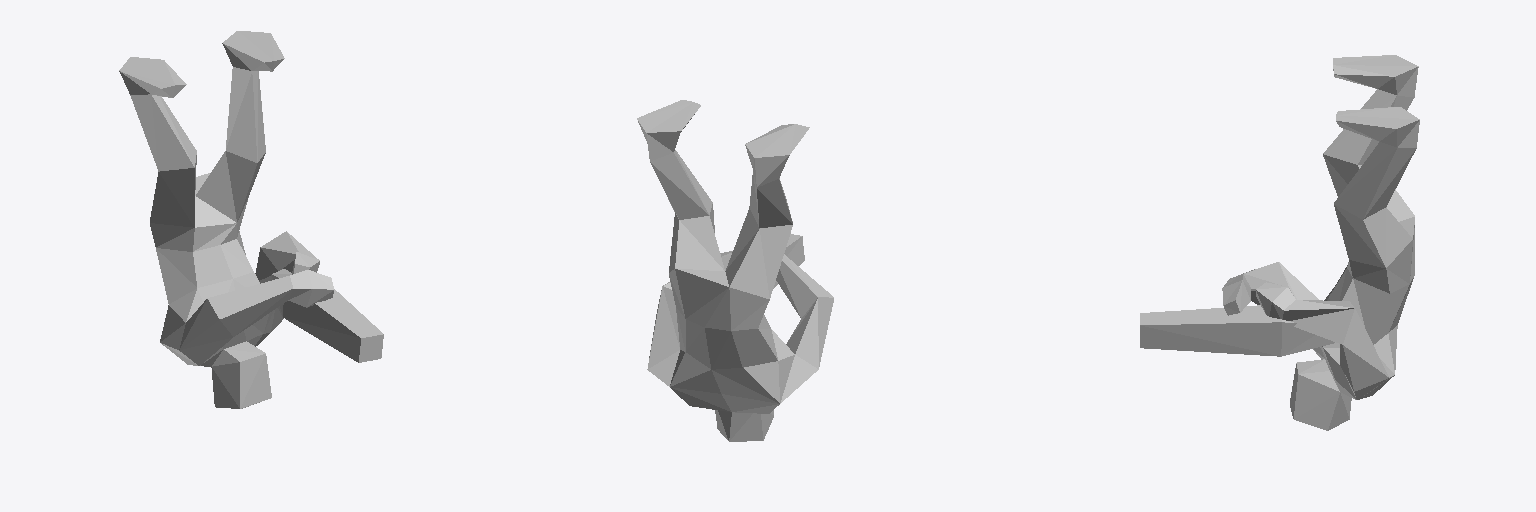
File: Soldier_000006.obj
3 views of the same model, side by side, from view 1: azimuth 30°, elevation 25°; view 2: azimuth 150°, elevation 25°; view 3: azimuth 270°, elevation 25° (orthographic).
Parts seen in each view (by area): view 1: soldier_rfoot_mesh0.004; view 2: soldier_rfoot_mesh0.004; view 3: soldier_rfoot_mesh0.004.
Boxes of the visible parts, x1=… form: soldier_rfoot_mesh0.004: x1=119, y1=31, x2=383, y2=408; soldier_rfoot_mesh0.004: x1=637, y1=100, x2=833, y2=441; soldier_rfoot_mesh0.004: x1=1140, y1=55, x2=1419, y2=430.
Bounding box in the file's own units: 12.35 × 24.48 × 18.88.